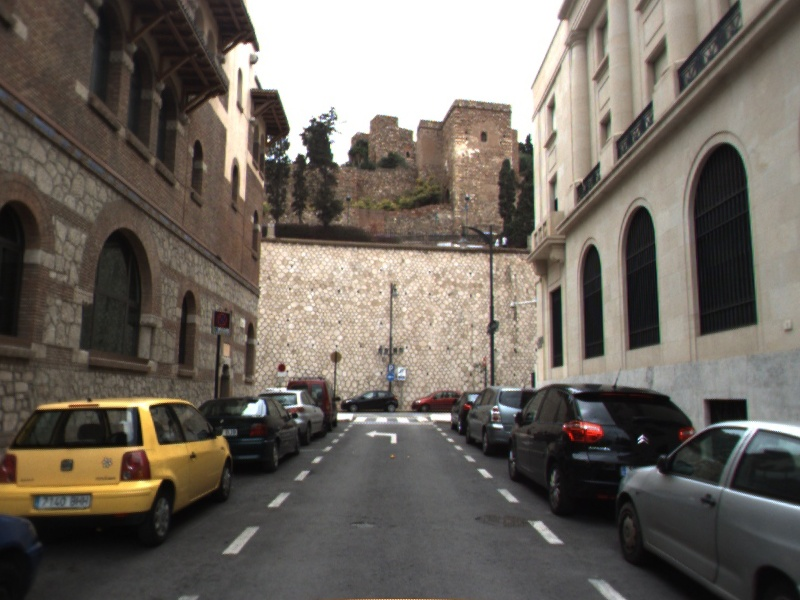LEFT: (364, 428, 399, 446)
